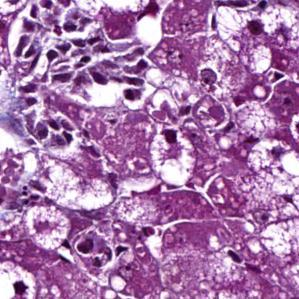ballooning: (147, 124, 199, 193), (24, 199, 75, 256)
